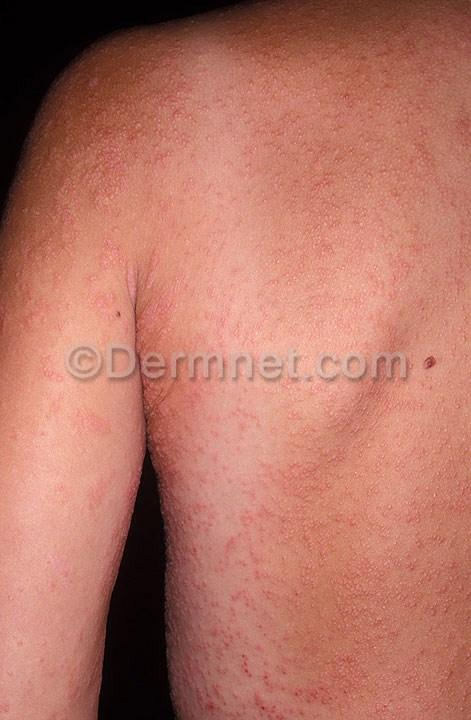edema 2: (0, 1, 470, 719)
